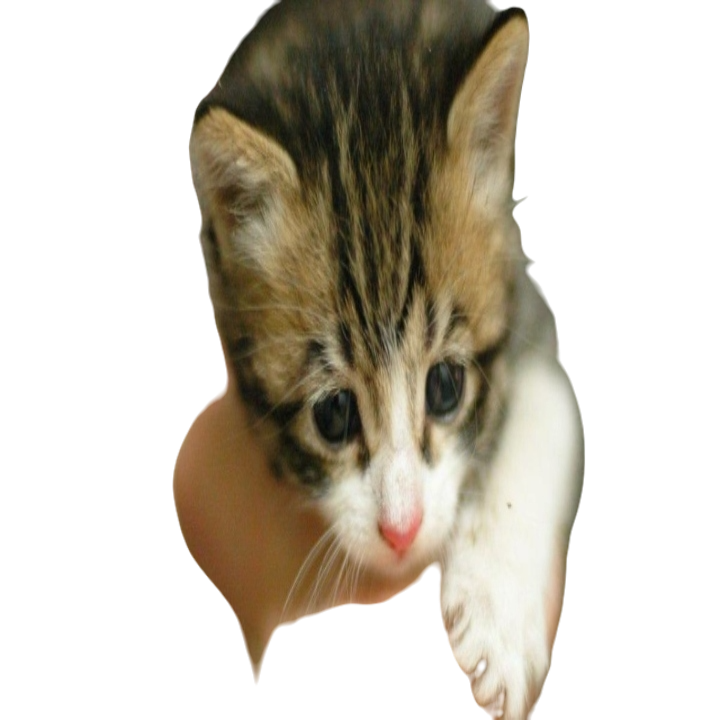Cat: (164, 1, 587, 719)
